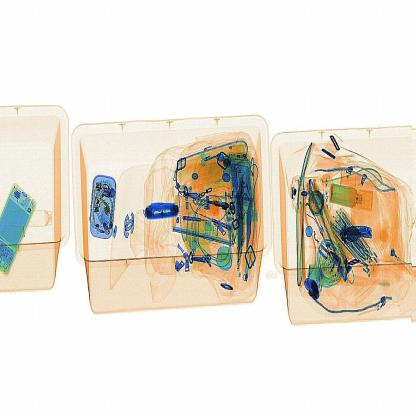scissors: (138, 197, 182, 226)
